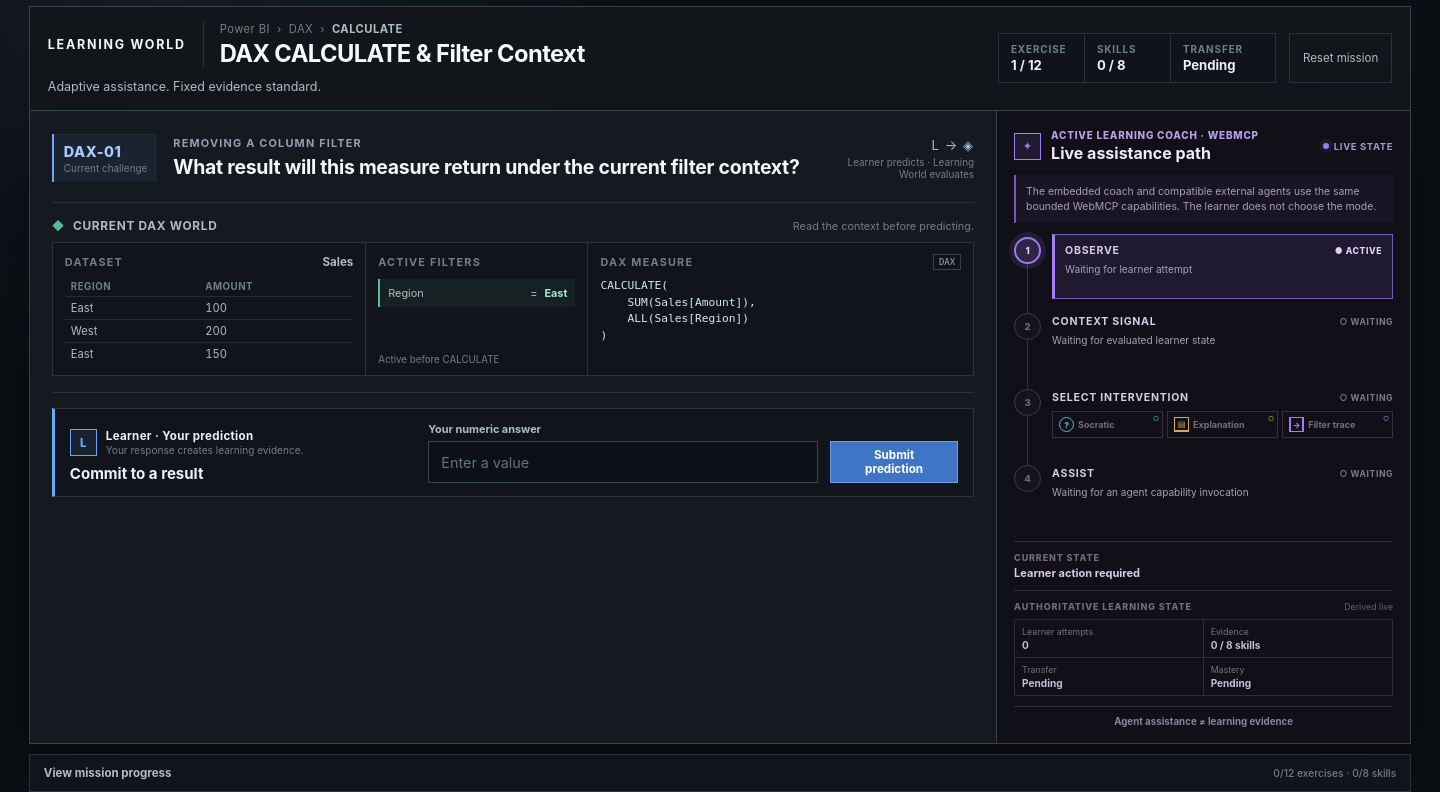
Scenario: embedded DAX Active Learning Coach flow › binds filter_trace selection to the real request_filter_trace WebMCP result and rail
Type "250" into the number field labelled "Your numeric answer" at (623, 462), box [428, 441, 818, 483]
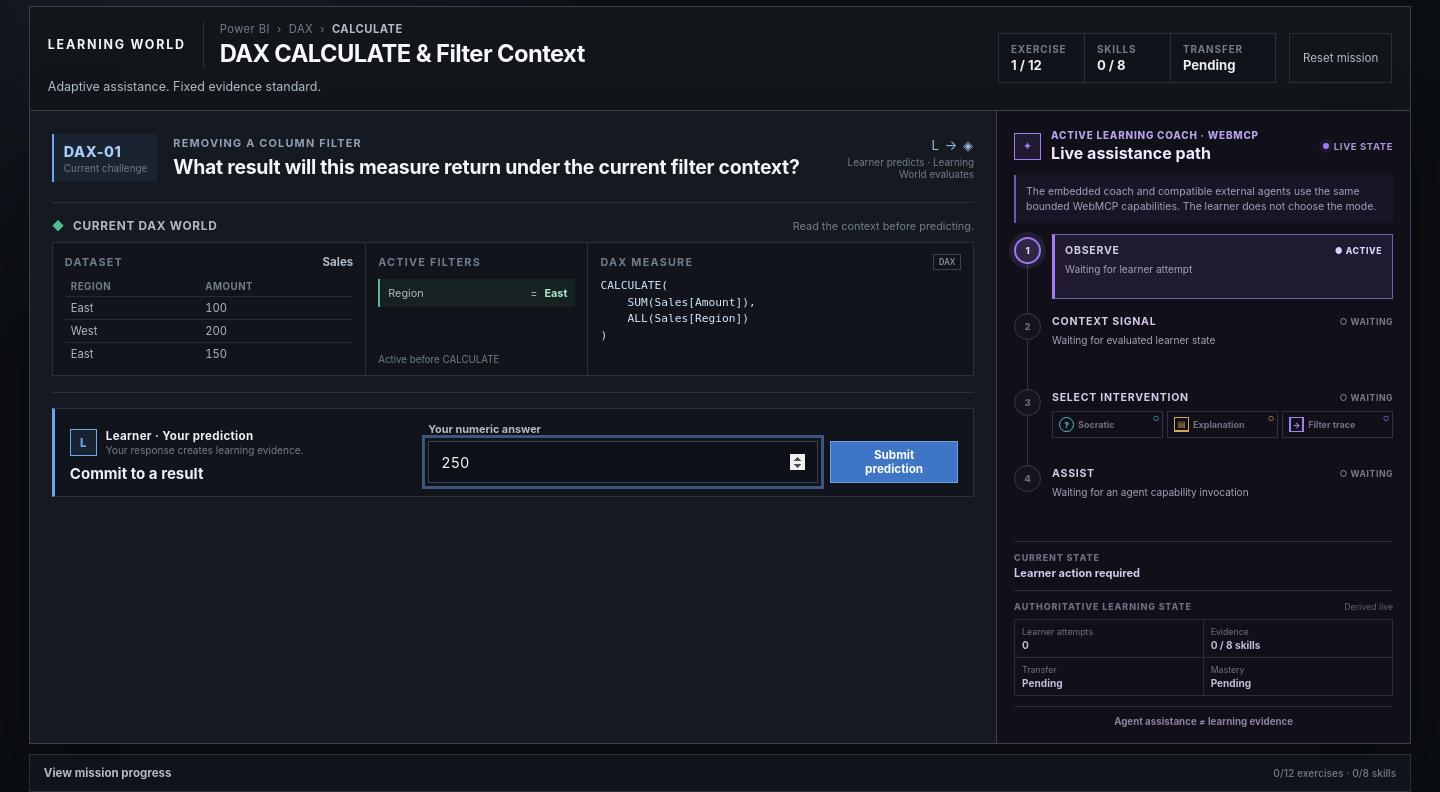
Click the button "Submit prediction" at (894, 462), box [830, 441, 958, 483]
(page scrolled)
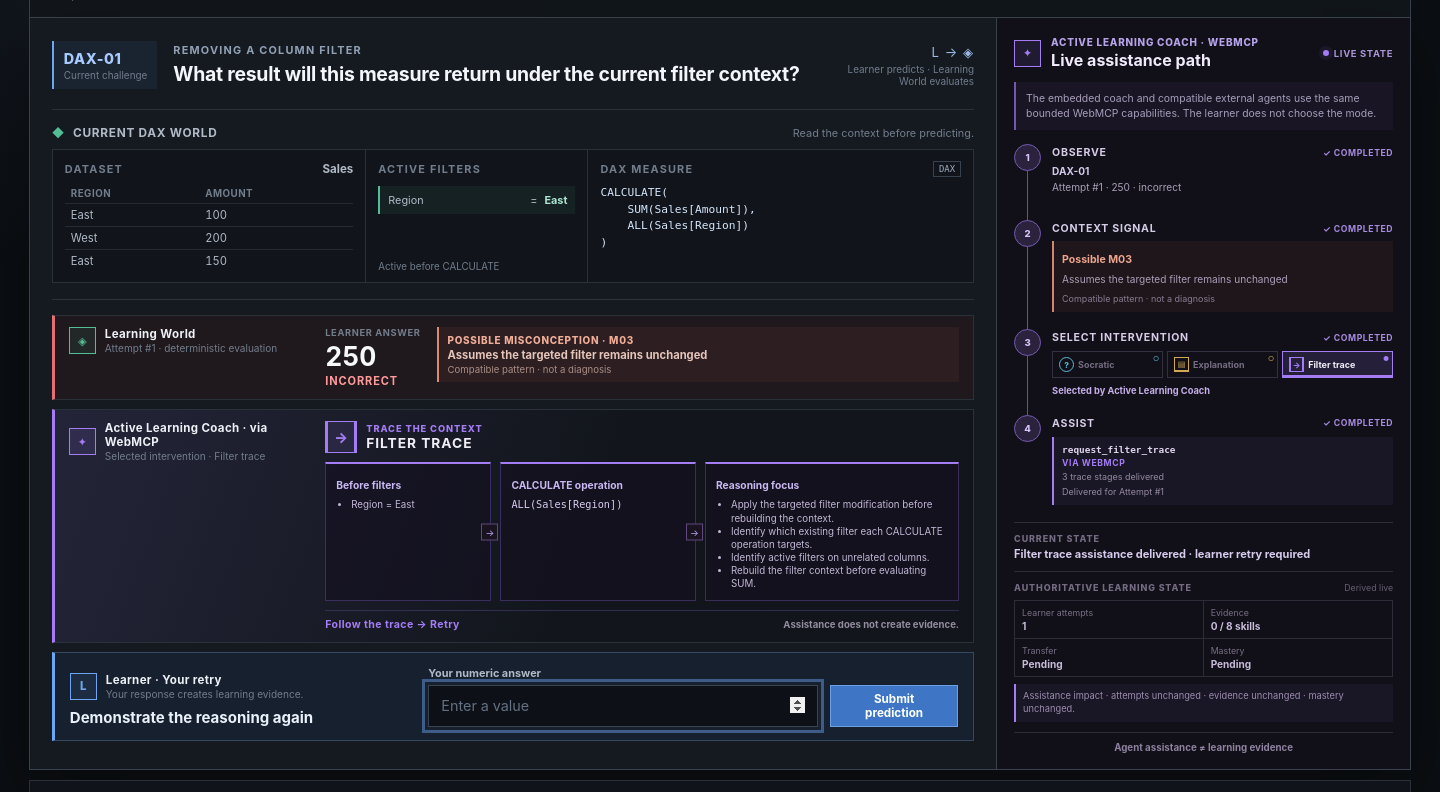
Check: the text "request_filter_trace" is shown, box [1062, 444, 1176, 455]
Check: the element named "AI Agent intervention" shows "Active Learning Coach · via WebMCP", box [52, 409, 974, 643]
Check: the icon with class "support-mode-icon" reads "→", box [334, 429, 348, 446]
